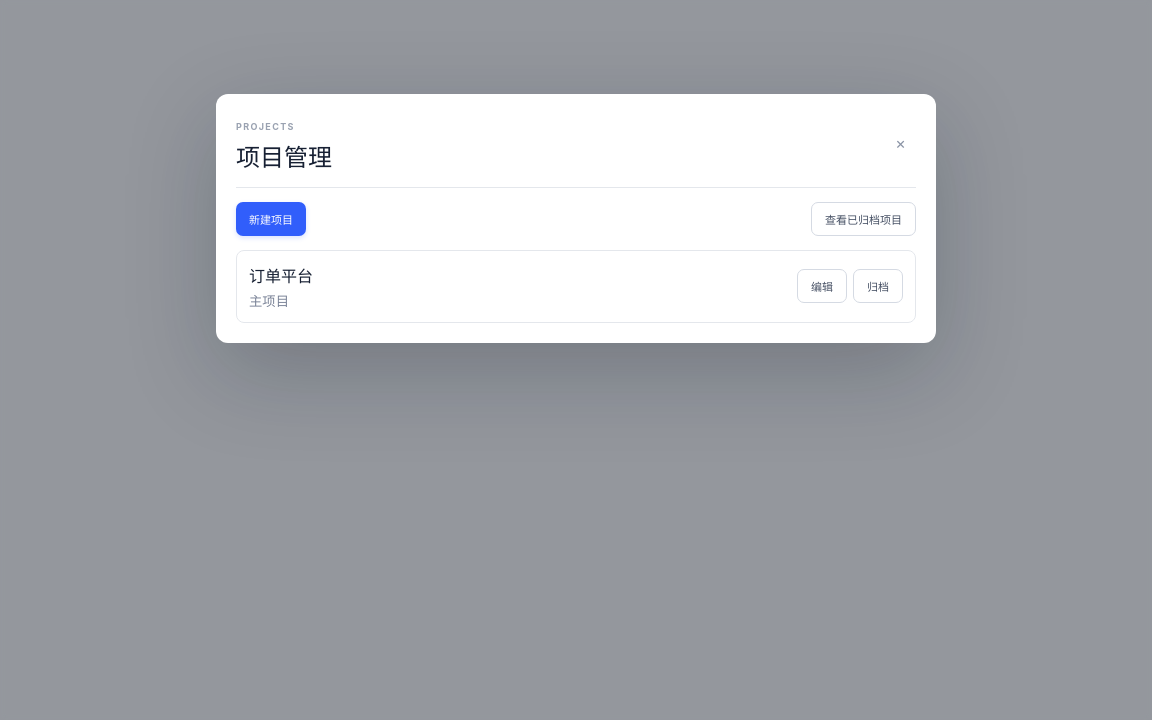
Test: 项目管理弹层 › 将版本冲突显示为刷新后重试
Click the button "编辑" at x=822, y=286, box top-left (797, 269), bottom-right (847, 303)
(page scrolled)
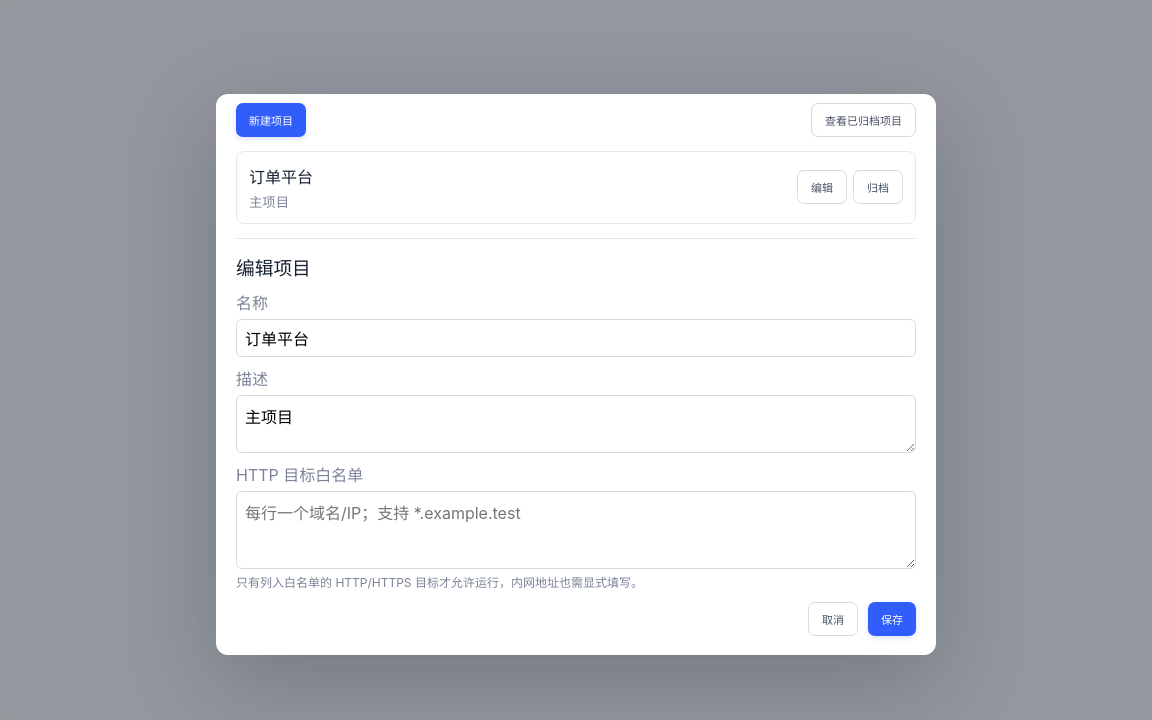
Submit the form, box top-left (236, 238), bottom-right (916, 636)
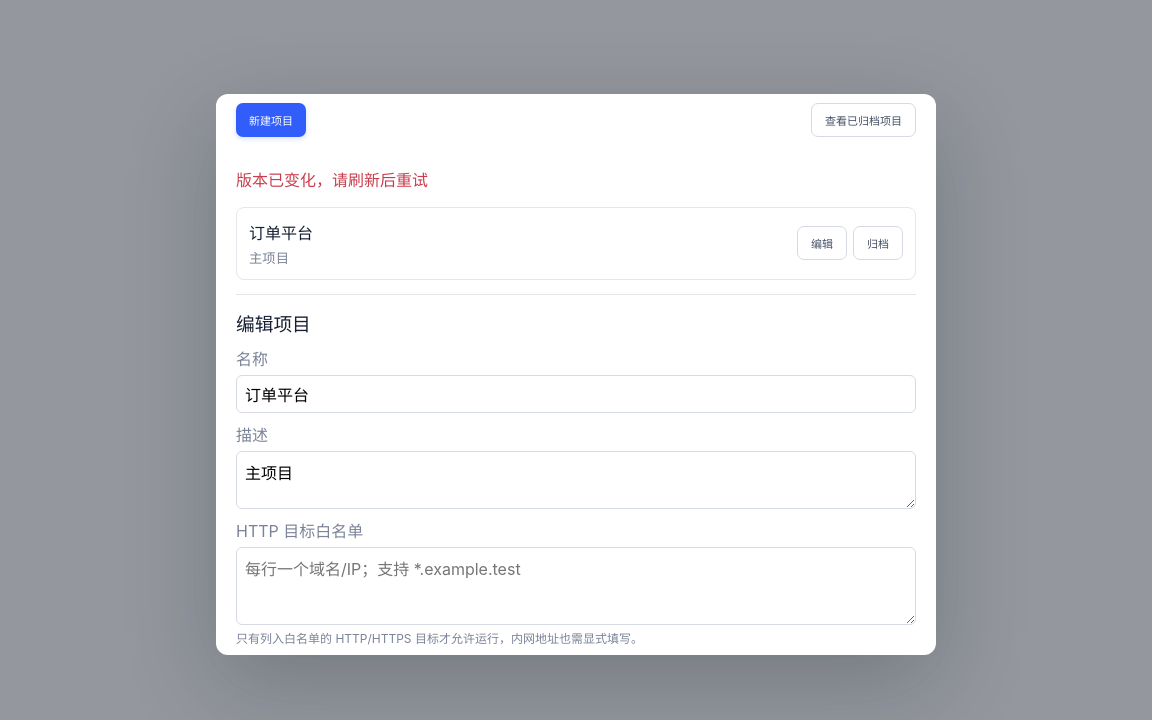
Check: the text "版本已变化，请刷新后重试" is shown, box top-left (236, 170), bottom-right (428, 190)
